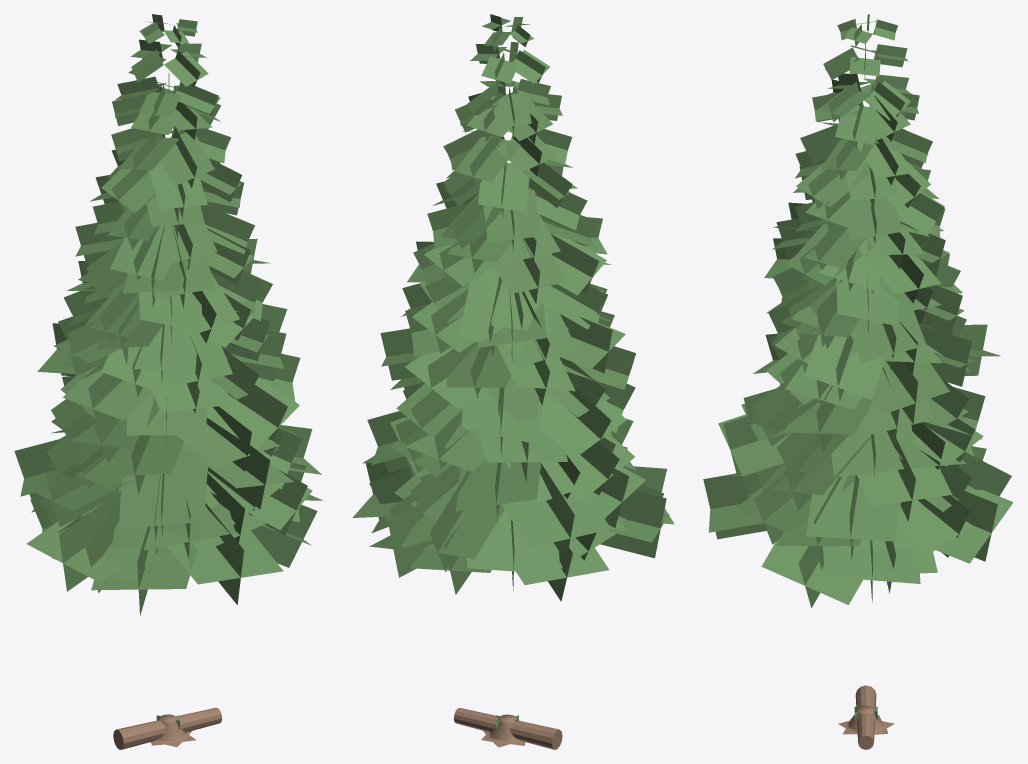
The model's file is forest_kit.glb.
3 renders of one model, left to right at view 1: azimuth 30°, elevation 25°; view 2: azimuth 150°, elevation 25°; view 3: azimuth 270°, elevation 25°, orthographic.
Visible parts, largest first — view 1: Crown, Snag, Trunk; view 2: Crown, Snag, Trunk; view 3: Crown, Snag, Trunk.
Part boxes in pixels (x1,y1,x2,y2): Crown: (14,14,322,615); Snag: (113,707,222,749); Trunk: (151,714,196,747); Crown: (352,14,674,601); Snag: (454,708,562,749); Trunk: (481,714,525,747); Crown: (703,14,1013,607); Snag: (855,685,876,749); Trunk: (838,705,894,734).
Bounding box in the file's own units: 16.98 × 41.29 × 16.39.
